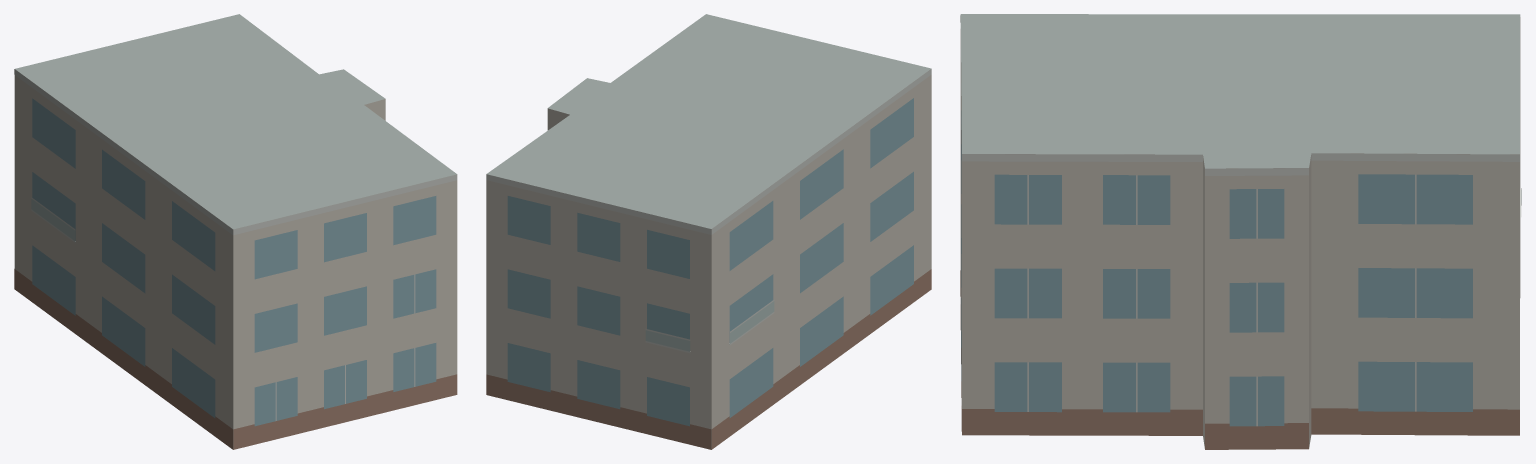
Rendered from survey-upis-32718339.glb.
The picture shows the model from 3 angles, left to right: view 1: azimuth 30°, elevation 25°; view 2: azimuth 150°, elevation 25°; view 3: azimuth 270°, elevation 25°; orthographic projection. The views are drawn at different scales.
Visible parts, largest first — view 1: survey-upis-32718339.tmp; view 2: survey-upis-32718339.tmp; view 3: survey-upis-32718339.tmp.
Boxes of the visible parts, left/top/right/bottom form: survey-upis-32718339.tmp: left=14, top=14, right=457, bottom=449; survey-upis-32718339.tmp: left=486, top=14, right=931, bottom=449; survey-upis-32718339.tmp: left=960, top=14, right=1521, bottom=449.
Bounding box in the file's own units: 10.81 × 9.15 × 16.54.
